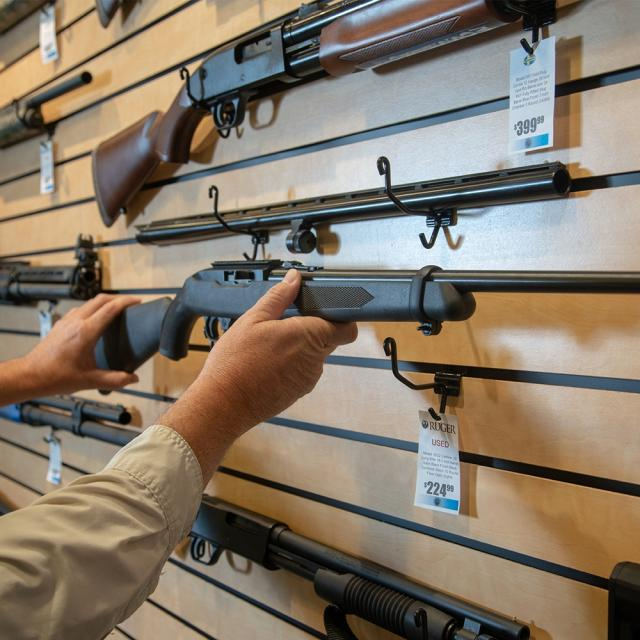ShotGun: (92, 0, 506, 228)
